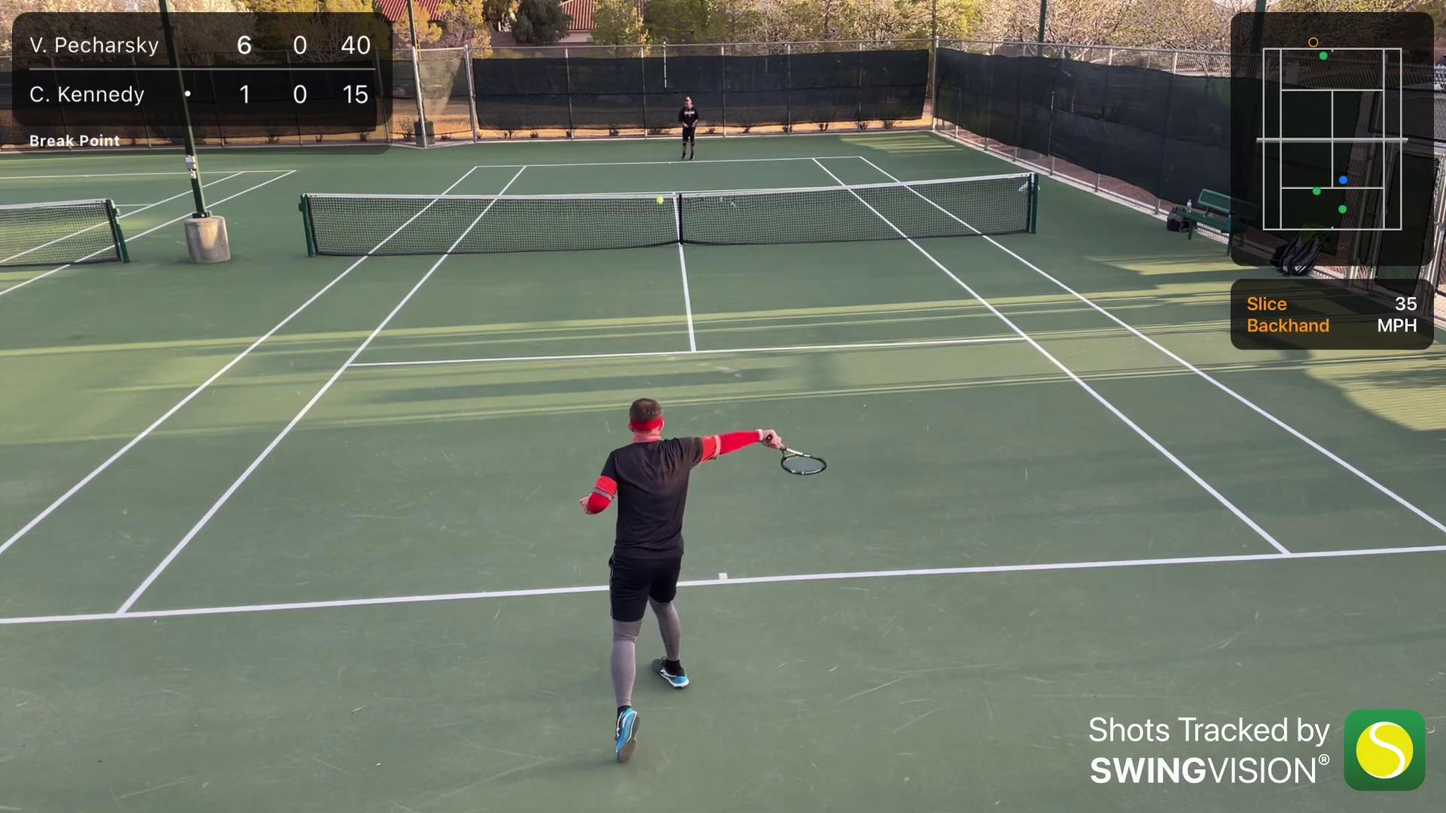ball: (655, 195, 665, 207)
